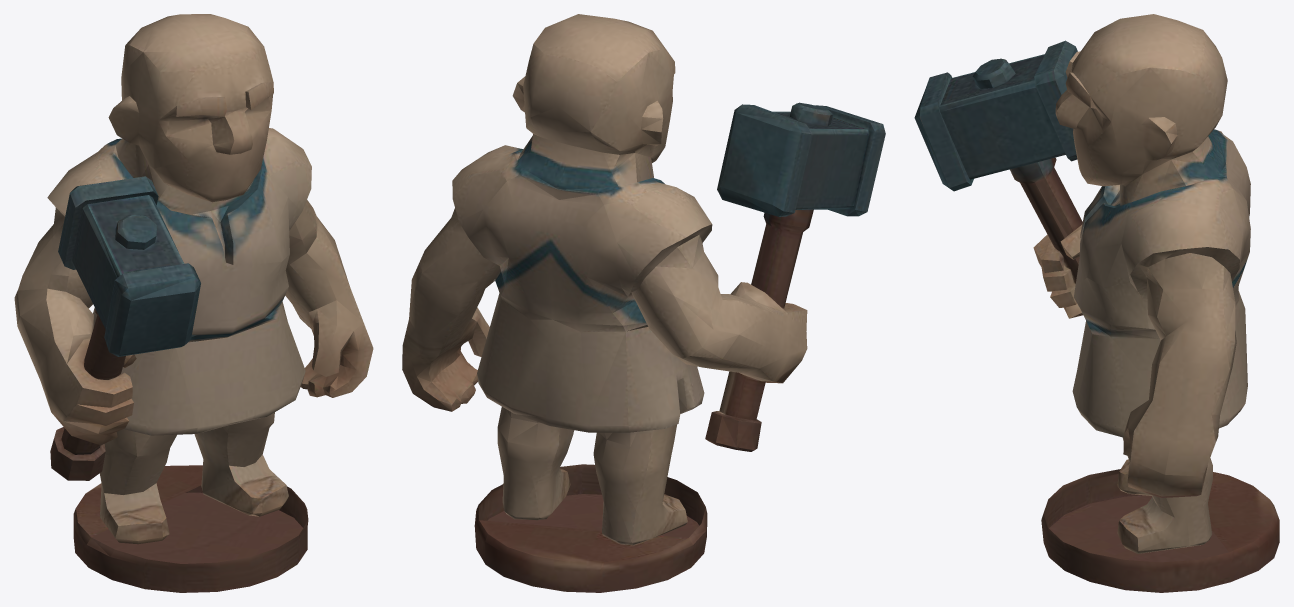
Rendered from unit-builder-map.glb.
3 renders of one model, left to right at view 1: azimuth 30°, elevation 25°; view 2: azimuth 150°, elevation 25°; view 3: azimuth 270°, elevation 25°, orthographic.
Size of the model in its own units: 0.6904 by 0.9531 by 0.6099.
1 material, 1 textured.
